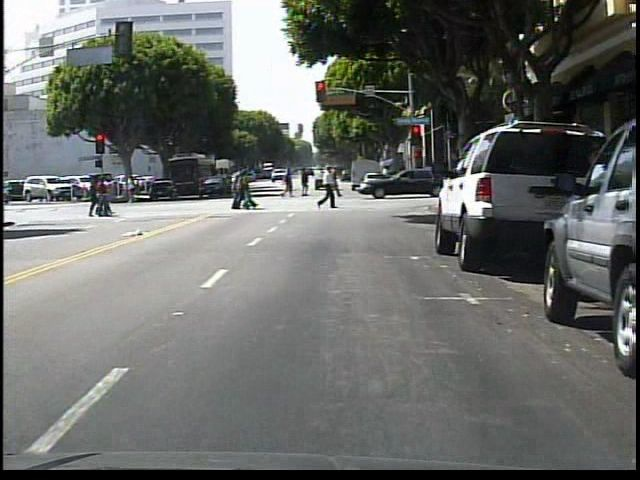person: (317, 161, 341, 213), (123, 174, 142, 205), (333, 167, 342, 196)
